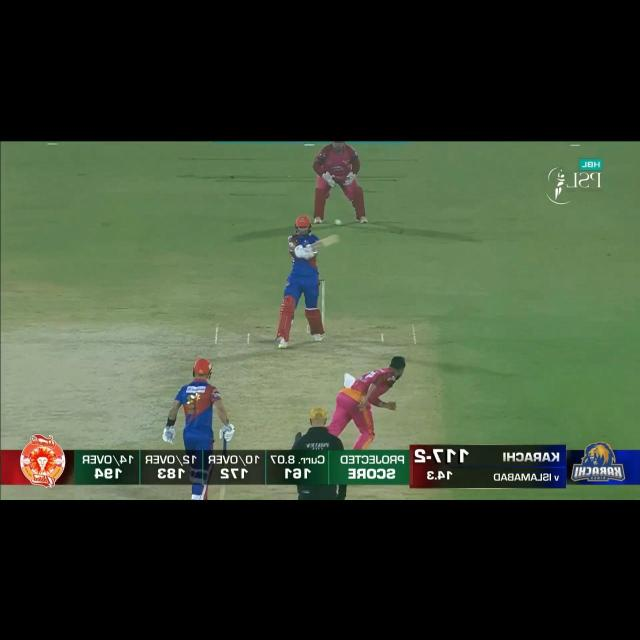bat: (312, 234, 341, 251)
toe: (220, 484, 227, 500), (334, 234, 339, 242)
